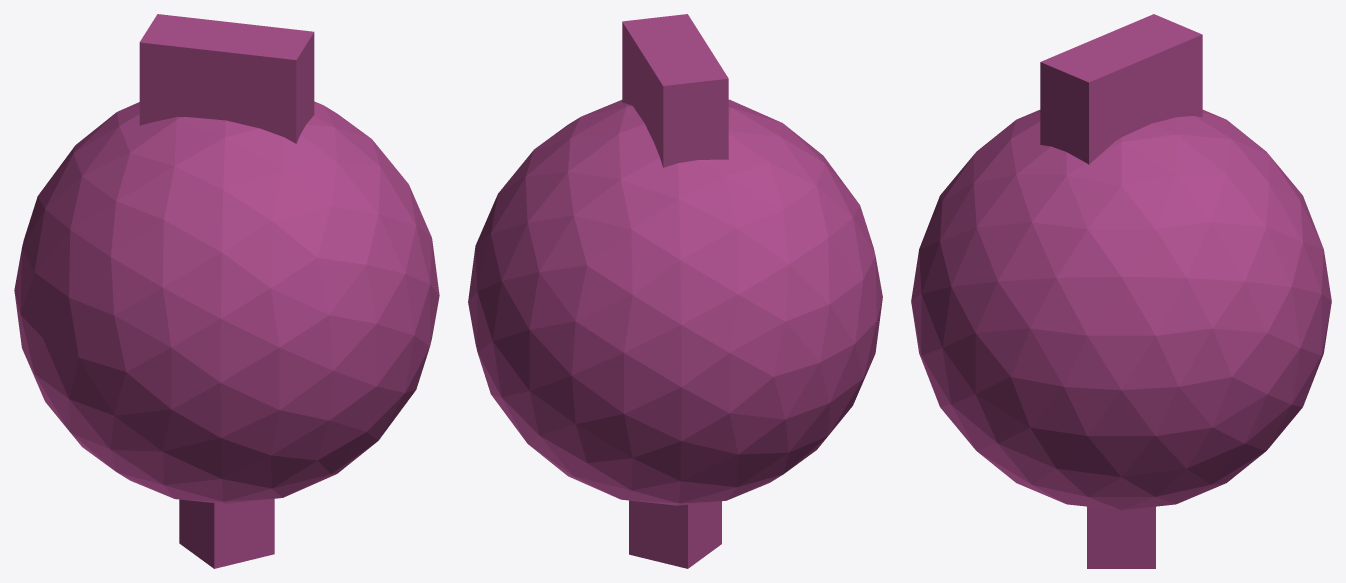
The model's file is tech_148.glb.
3 views of the same model, side by side, from view 1: azimuth 30°, elevation 25°; view 2: azimuth 150°, elevation 25°; view 3: azimuth 270°, elevation 25° (orthographic). The views are drawn at different scales.
Visible parts, largest first — view 1: world; view 2: world; view 3: world.
Part boxes in pixels (<box>): world: <box>14,14,439,568</box>; world: <box>468,14,882,568</box>; world: <box>911,14,1331,568</box>.
Bounding box in the file's own units: 1.1 × 1.46 × 1.1.
